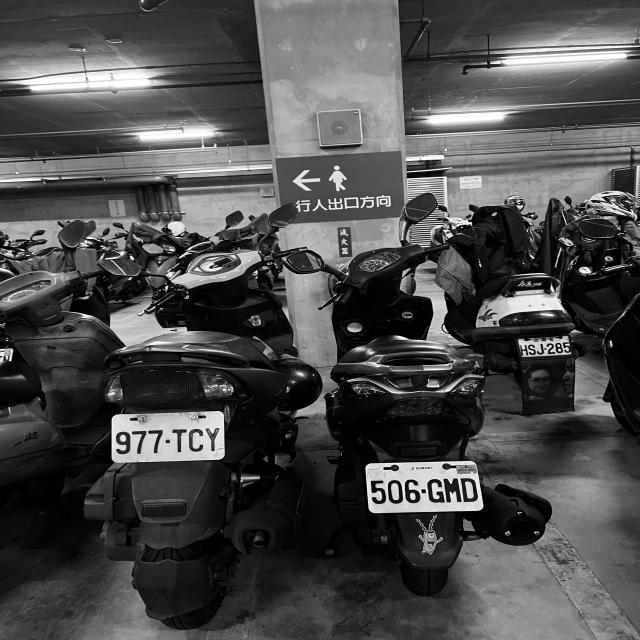-: (165, 439, 171, 444), (421, 488, 426, 493), (544, 348, 547, 350)
0: (386, 479, 404, 504)
2: (546, 344, 556, 354)
5: (369, 480, 387, 504), (563, 341, 571, 353)
6: (404, 478, 421, 504)
7: (148, 429, 164, 453), (132, 429, 146, 454)
8: (555, 342, 563, 354)
9: (114, 430, 132, 454)
C: (189, 427, 205, 452)
D: (462, 477, 478, 502)
G: (426, 478, 444, 504)
H: (520, 344, 528, 356)
J: (536, 343, 544, 355)
M: (444, 477, 462, 502)
S: (528, 344, 537, 356)
T: (172, 428, 188, 452)
Y: (205, 426, 222, 452)
plate: (112, 416, 226, 462), (366, 465, 482, 509), (519, 340, 571, 356)
